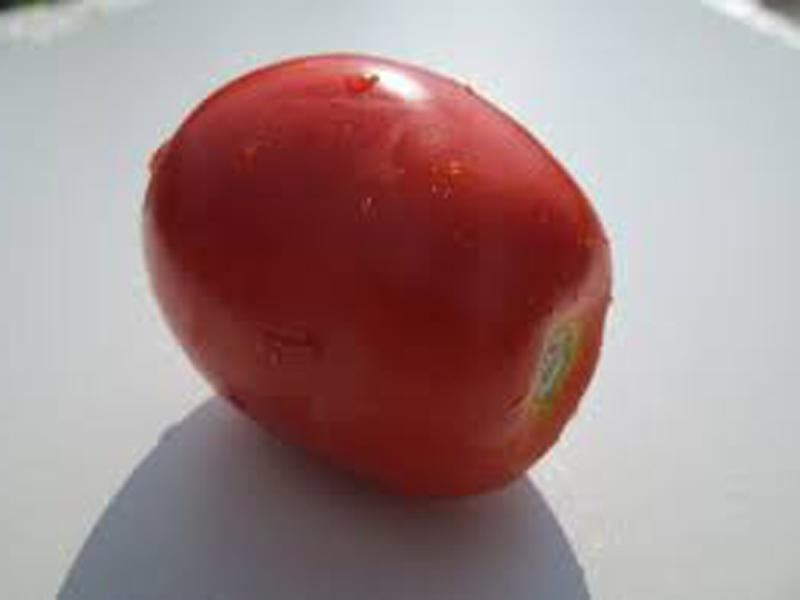Tomato: (144, 53, 611, 495)
